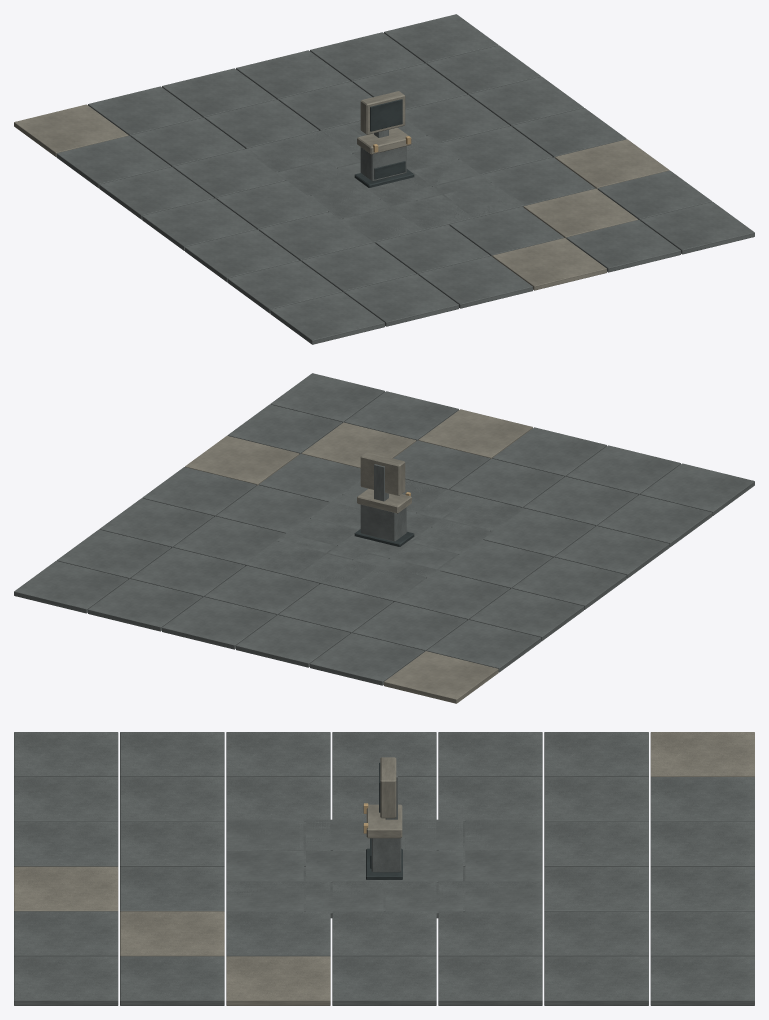
Rendered from archive-hall-v01.glb.
3 views of the same model, one above another, from view 1: azimuth 30°, elevation 25°; view 2: azimuth 150°, elevation 25°; view 3: azimuth 270°, elevation 25° (orthographic). The views are drawn at different scales.
Parts seen in each view (by area): view 1: Grounded room paving.043, Grounded room paving.042, Bridge paving.012, Carved mark tablet.001, Grounded station foot.001, Back tablet support.001; view 2: Grounded room paving.043, Bridge paving.012, Grounded room paving.042, Carved mark tablet.001, Back tablet support.001; view 3: Grounded room paving.043, Bridge paving.012, Grounded room paving.042, Carved mark tablet.001, Back tablet support.001, Grounded station foot.001.
Part boxes in pixels (<box>): Grounded room paving.043: <box>56,14,754,344</box>; Grounded room paving.042: <box>14,104,669,290</box>; Bridge paving.012: <box>244,118,524,243</box>; Carved mark tablet.001: <box>357,91,411,154</box>; Grounded station foot.001: <box>354,99,414,187</box>; Back tablet support.001: <box>360,129,406,181</box>; Grounded room paving.043: <box>14,373,754,685</box>; Bridge paving.012: <box>244,479,524,601</box>; Grounded room paving.042: <box>185,409,532,703</box>; Carved mark tablet.001: <box>357,452,411,513</box>; Back tablet support.001: <box>360,464,406,541</box>; Grounded room paving.043: <box>14,732,754,1005</box>; Bridge paving.012: <box>226,819,542,918</box>; Grounded room paving.042: <box>14,732,754,1005</box>; Carved mark tablet.001: <box>366,757,402,838</box>; Back tablet support.001: <box>371,771,401,872</box>; Grounded station foot.001: <box>366,762,402,879</box>.
Bounding box in the file's own units: 11.97 × 2.49 × 13.97.
4 materials, 3 textured.
